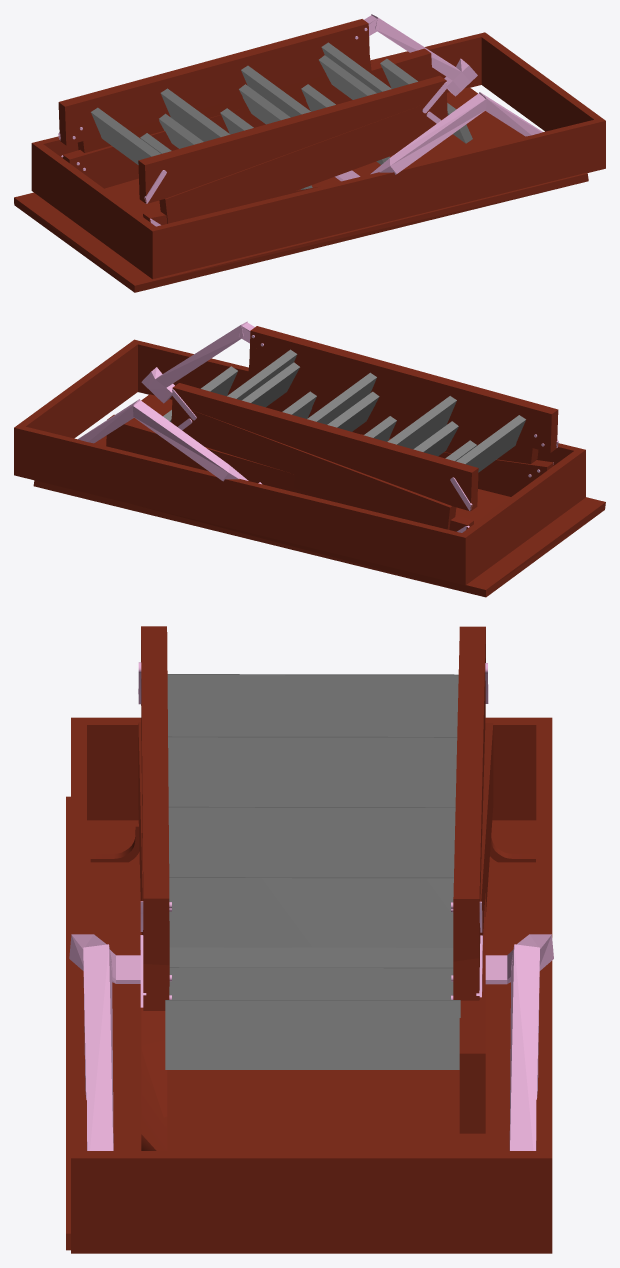
File: A_JD_MillersTrapDoor_Animatedbeta.fbx
3 renders of one model, top to bottom at view 1: azimuth 30°, elevation 25°; view 2: azimuth 150°, elevation 25°; view 3: azimuth 270°, elevation 25°, orthographic. The views are drawn at different scales.
Visible parts, largest first — view 1: Box017; view 2: Box017; view 3: Box017.
Part boxes in pixels (<box>): Box017: <box>14,14,605,292</box>; Box017: <box>14,321,605,597</box>; Box017: <box>66,626,553,1253</box>.
Size of the model in its own units: 125 by 29.84 by 56.17.
